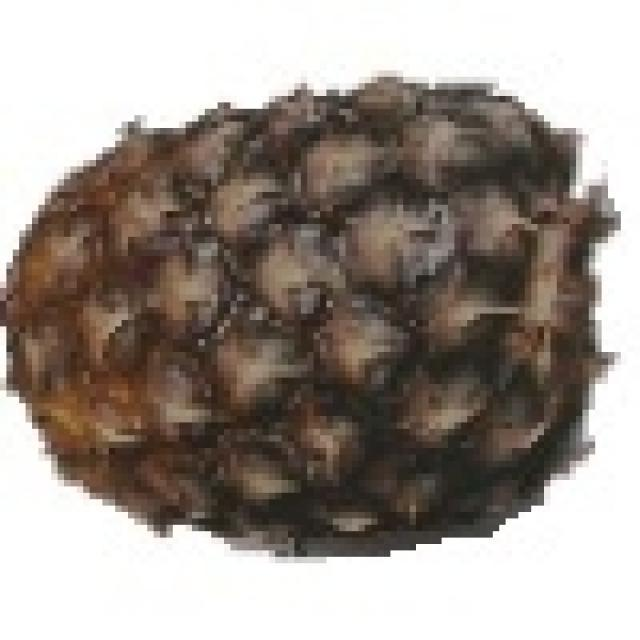pineapple: (0, 70, 608, 538)
